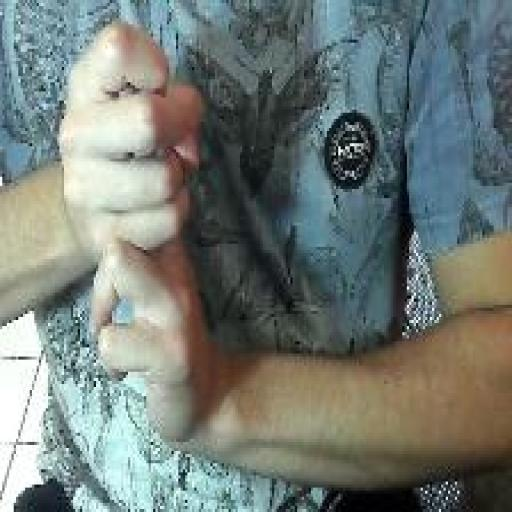Ne -rat-: (55, 16, 215, 458)
